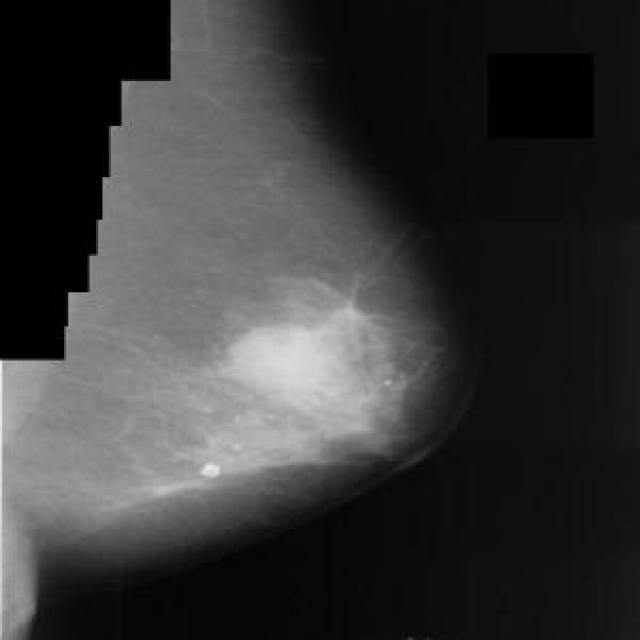tumor: (174, 293, 406, 487)
